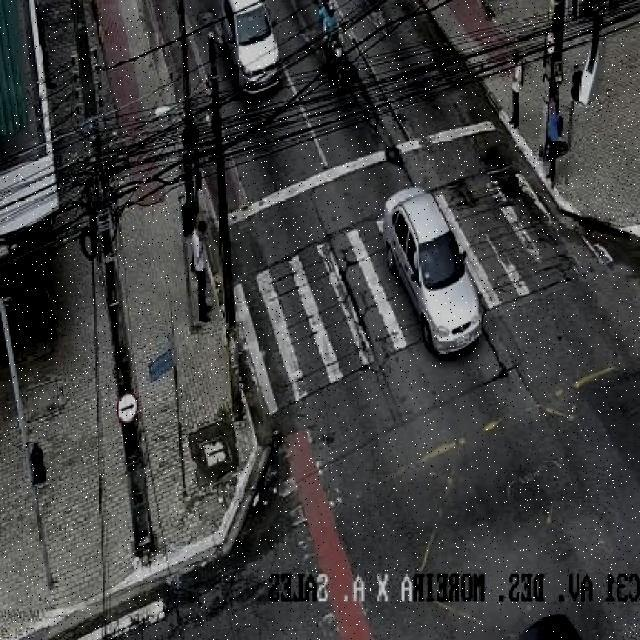Car: (382, 185, 488, 368), (226, 0, 279, 106)
